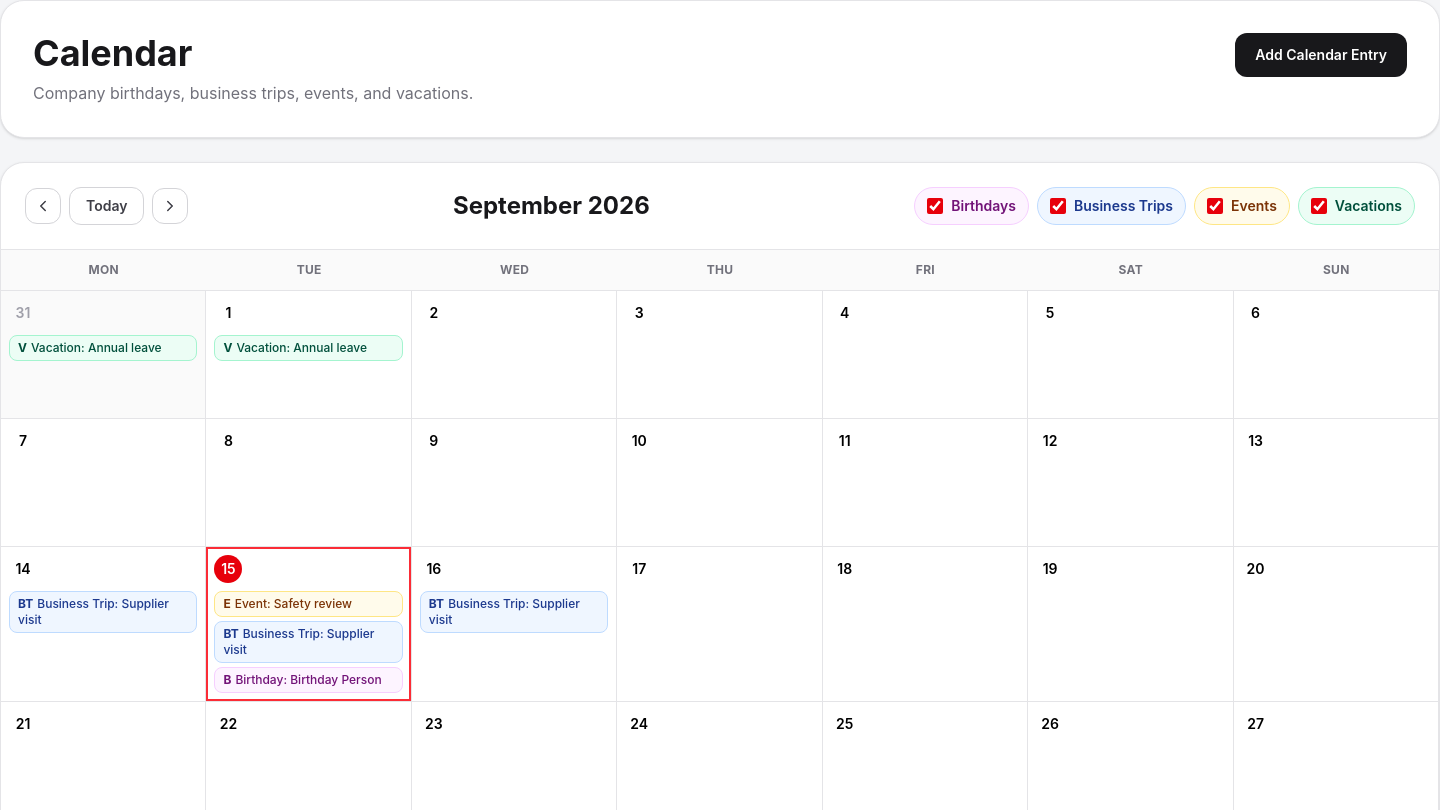
Test: CalendarPage › completes confirmed Remove without approval workflow controls
Click the button "EEvent: Safety review".
click(309, 604)  # box [215, 592, 402, 616]
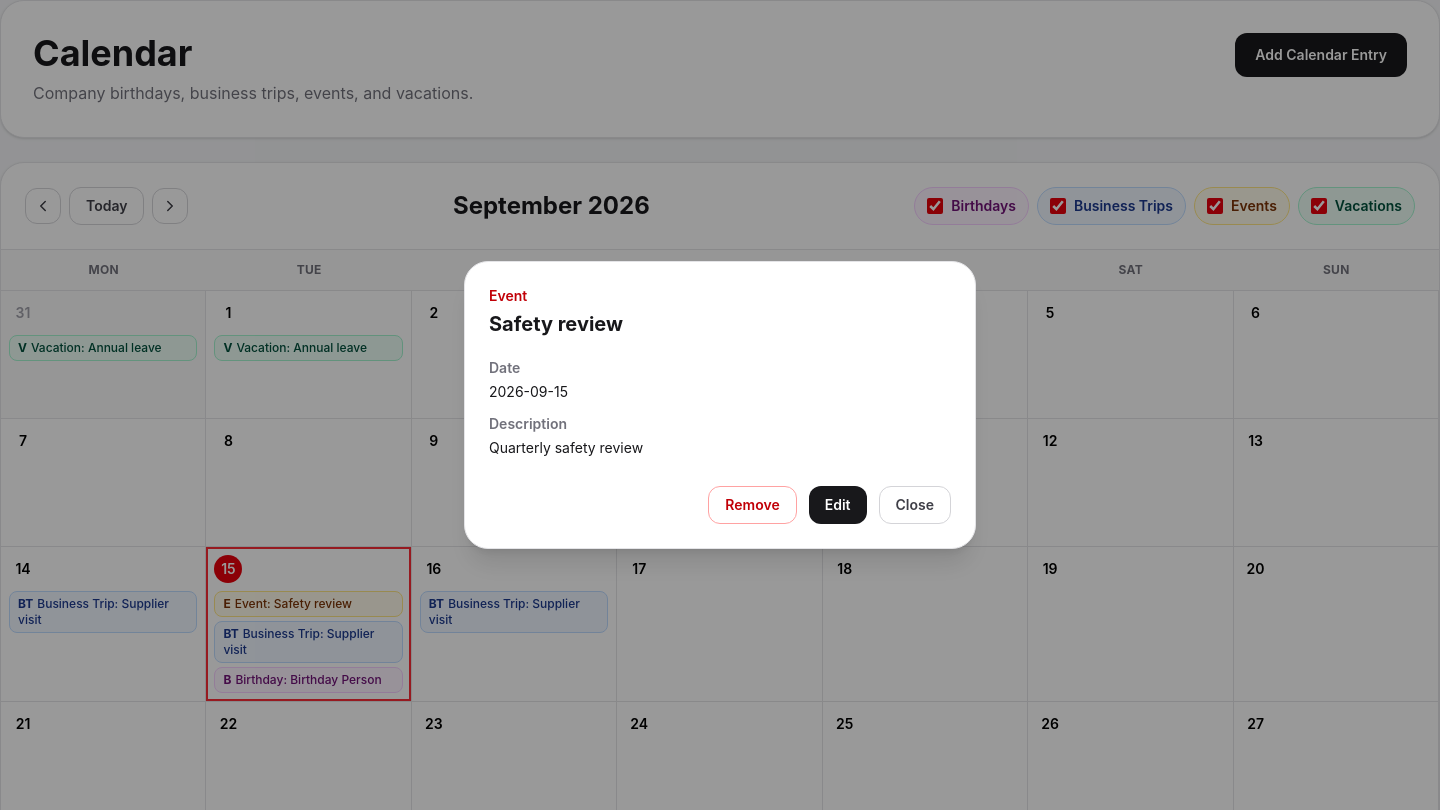
Click the button "Remove".
click(752, 505)  # box [708, 486, 797, 524]
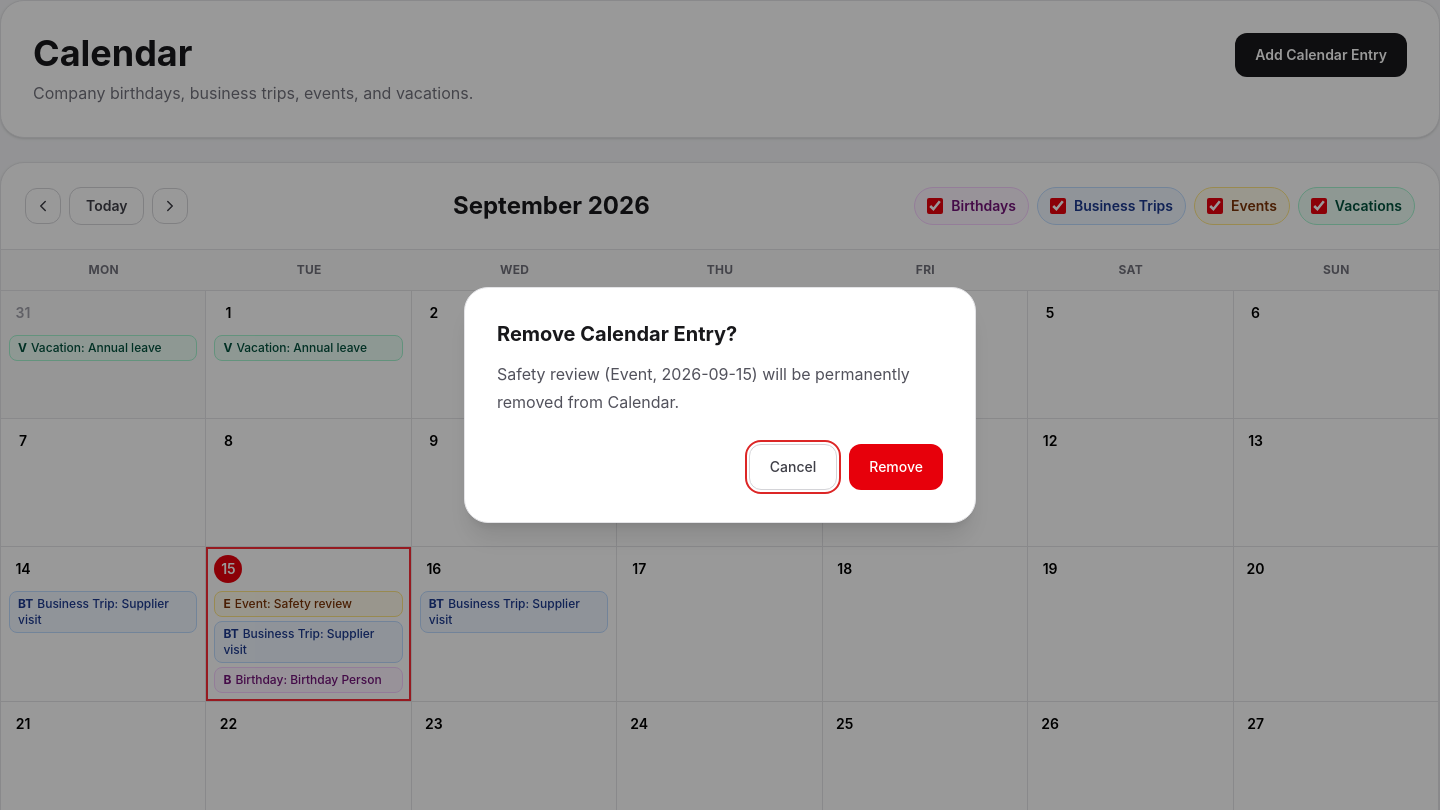
Click the button "Remove".
click(896, 467)  # box [849, 444, 943, 490]
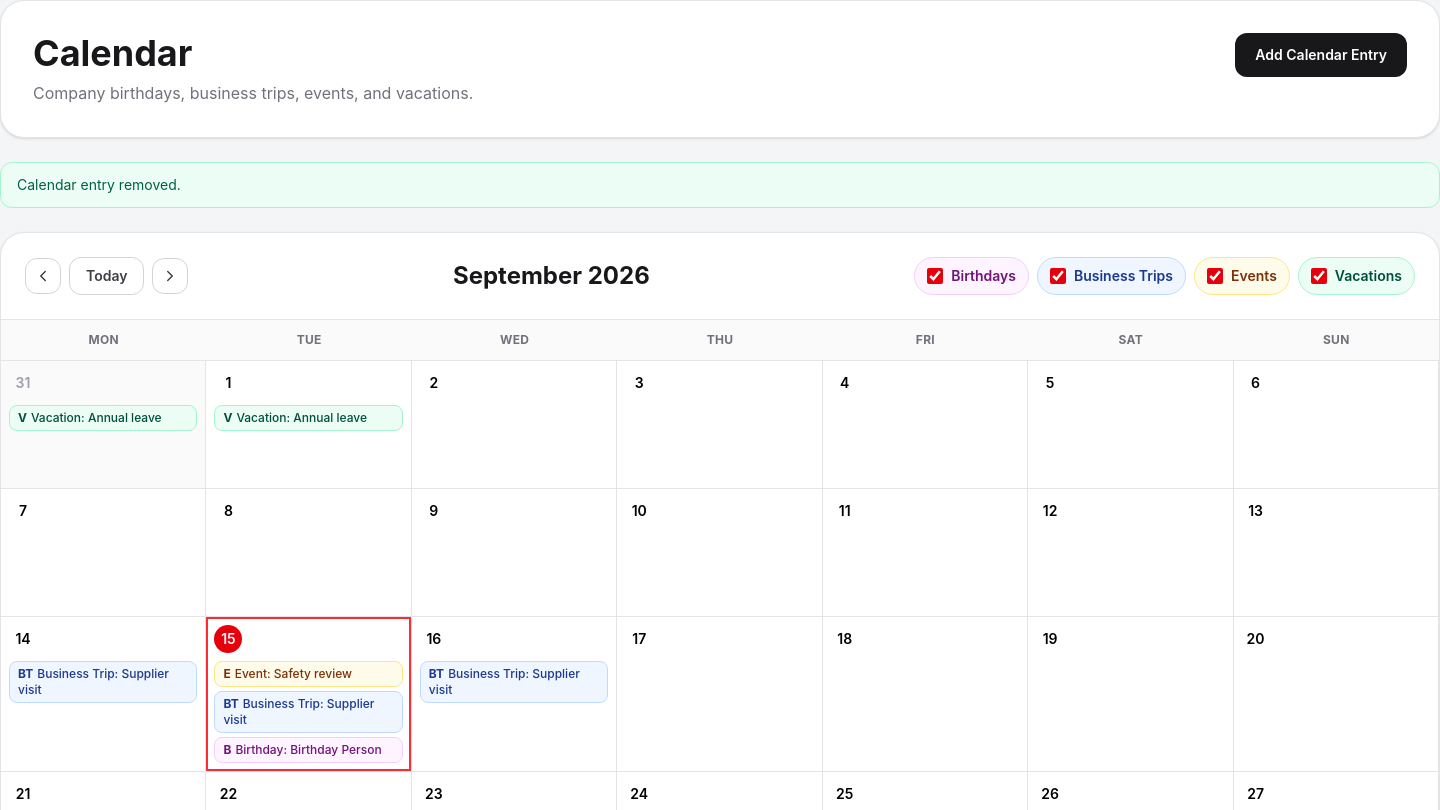
Now the text "Calendar entry removed." is shown, box [0, 162, 1439, 208]
